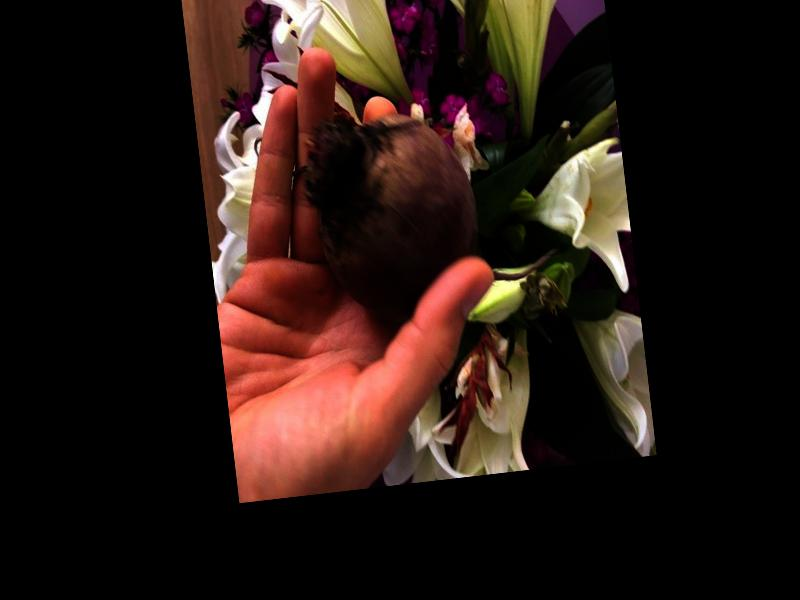Beet: (304, 93, 563, 327)
